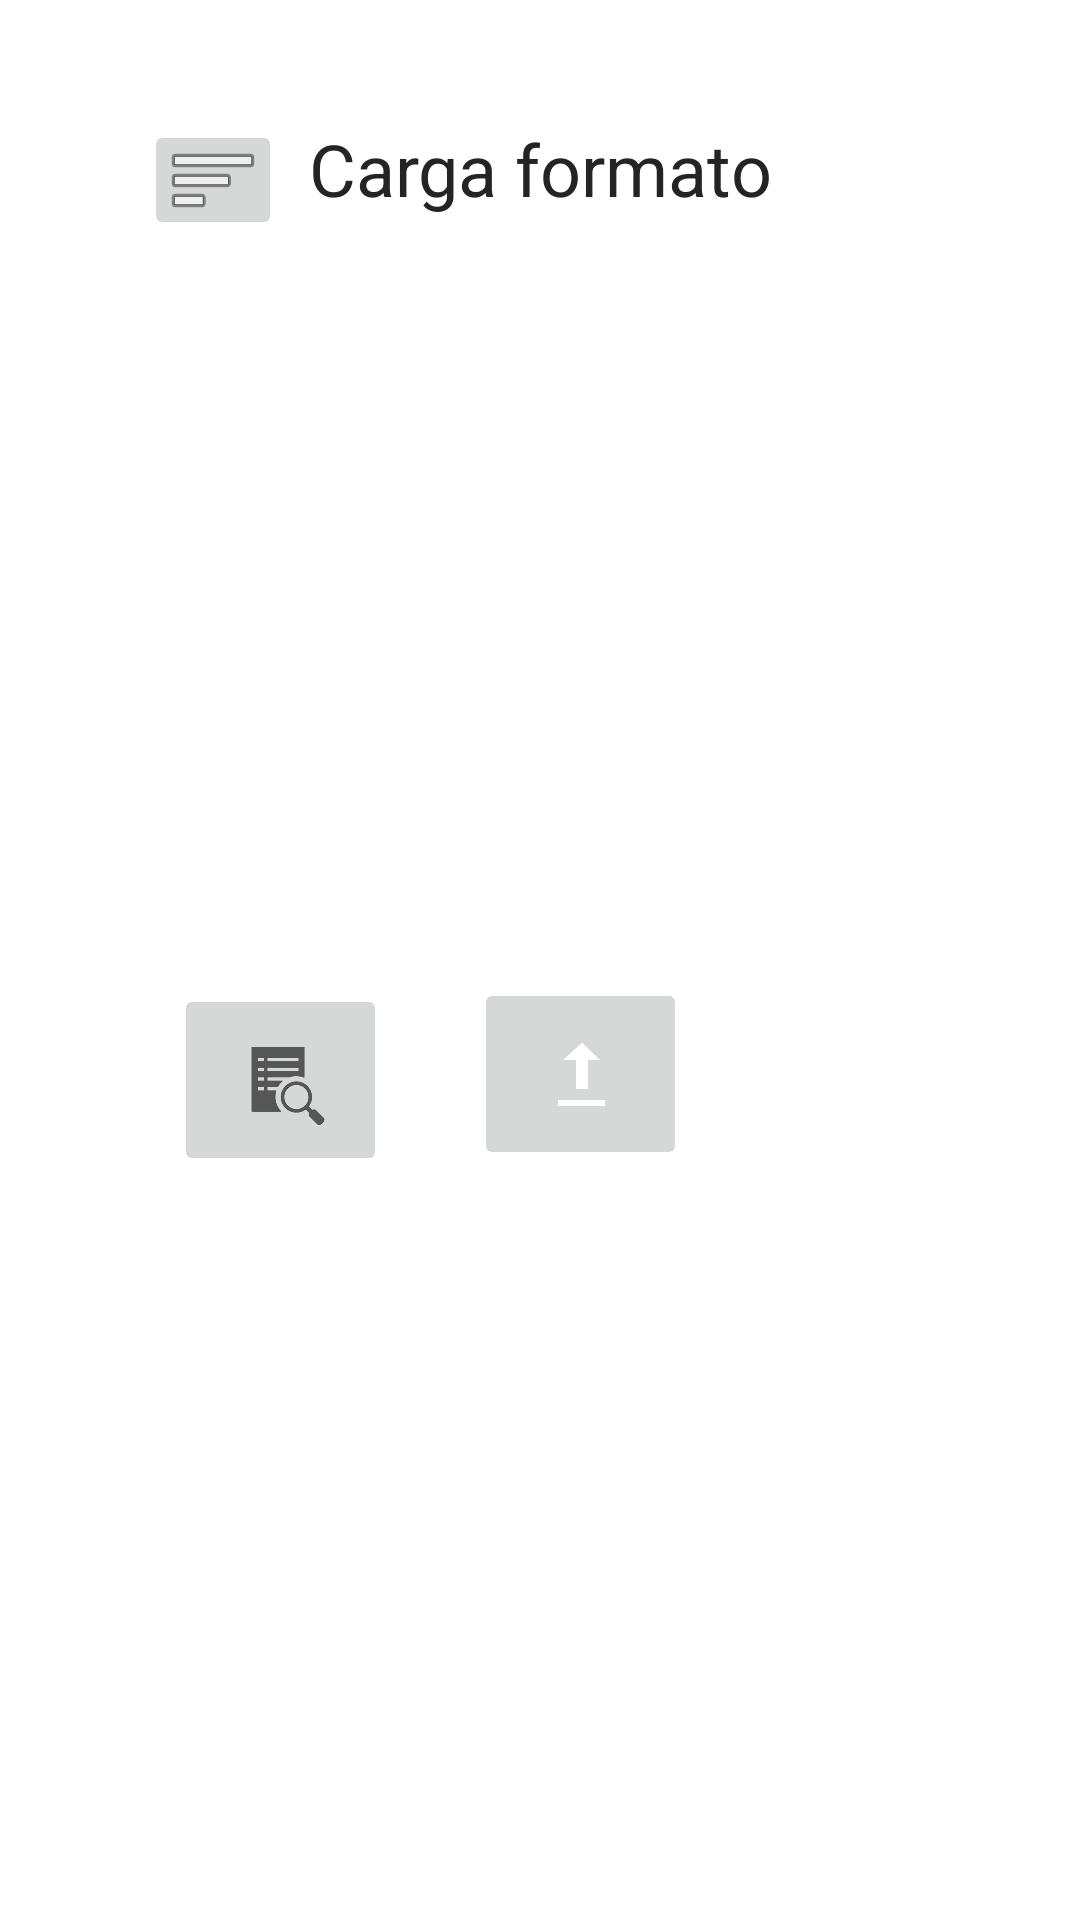

Locate icon controls on the screen. Image size 1080 × 1920, boxes as (x1, y1, x2, y2).
sort by size: (156, 138, 270, 222)
upload: (486, 996, 675, 1152)
